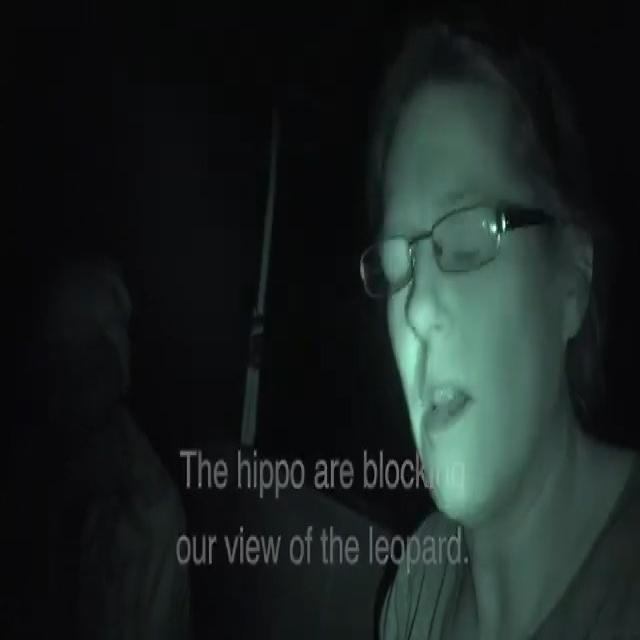human: (337, 0, 640, 593)
